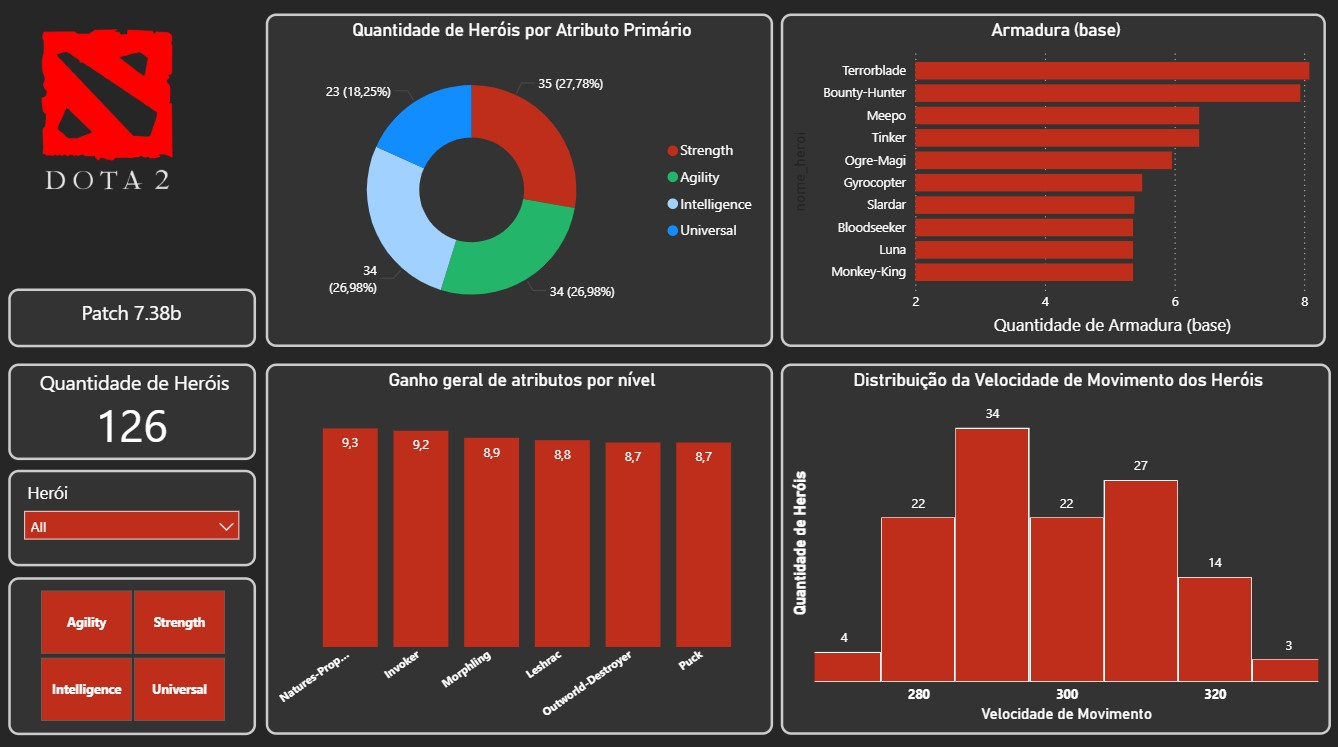

The page's visual inventory and layout, read from the dashboard file:
{"tool":"powerbi","page":{"name":"Page 1","canvas":[1280,720],"ordinal":0},"visuals":[{"type":"card","title":"Quantidade de Heróis","fields":{"Values":["Count(dota2_heroes_limpo.id_heroi)"]},"box":[10.7,350,235.7,91.7],"z":0},{"type":"donutChart","title":"Quantidade de Heróis por Atributo Primário","fields":{"Category":["dota2_heroes_limpo.atributo_primario"],"Y":["CountNonNull(dota2_heroes_limpo.atributo_primario)"]},"box":[256,16.7,483.3,317.9],"z":1000},{"type":"slicer","fields":{"Values":["dota2_heroes_limpo.nome_heroi"]},"box":[10.7,451.2,235.7,91.7],"z":2000},{"type":"slicer","fields":{"Values":["dota2_heroes_limpo.atributo_primario"]},"box":[10.7,553.6,235.7,150],"z":3000},{"type":"columnChart","title":"Ganho geral de atributos por nível","fields":{"Category":["dota2_heroes_limpo.nome_heroi"],"Y":["Sum(dota2_heroes_limpo.ganho_geral_atributos)"]},"box":[256,350,483.3,353.6],"z":4000},{"type":"clusteredColumnChart","title":"Distribuição da Velocidade de Movimento dos Heróis","fields":{"Category":["dota2_heroes_limpo.velocidade_movimento (bins)"],"Y":["CountNonNull(dota2_heroes_limpo.id_heroi)"]},"box":[746.4,350,523.8,353.6],"z":5000},{"type":"image","box":[0,0,210.2,215.3],"z":6000},{"type":"clusteredBarChart","title":"Armadura (base)","fields":{"Y":["Sum(dota2_heroes_limpo.armadura)"],"Category":["dota2_heroes_limpo.nome_heroi"]},"box":[746.4,16.7,519.1,317.9],"z":7000},{"type":"textbox","box":[10.7,278.6,235.7,56],"z":8000}]}

Visuals, with their boxes in screenshot pixels (x1, y1, x2, y2), scaled from the page's 1280x720 canvas onto the 1338x747 screenshot:
"Quantidade de Heróis" card: box(11, 363, 258, 458)
"Quantidade de Heróis por Atributo Primário" donutChart: box(268, 17, 773, 347)
slicer - dota2_heroes_limpo.nome_heroi: box(11, 468, 258, 563)
slicer - dota2_heroes_limpo.atributo_primario: box(11, 574, 258, 730)
"Ganho geral de atributos por nível" columnChart: box(268, 363, 773, 730)
"Distribuição da Velocidade de Movimento dos Heróis" clusteredColumnChart: box(780, 363, 1328, 730)
image: box(0, 0, 220, 223)
"Armadura (base)" clusteredBarChart: box(780, 17, 1323, 347)
textbox: box(11, 289, 258, 347)
